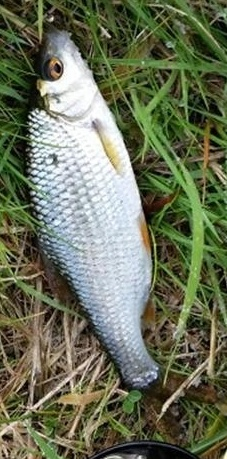Rutilus rutilus: (20, 20, 207, 439)
